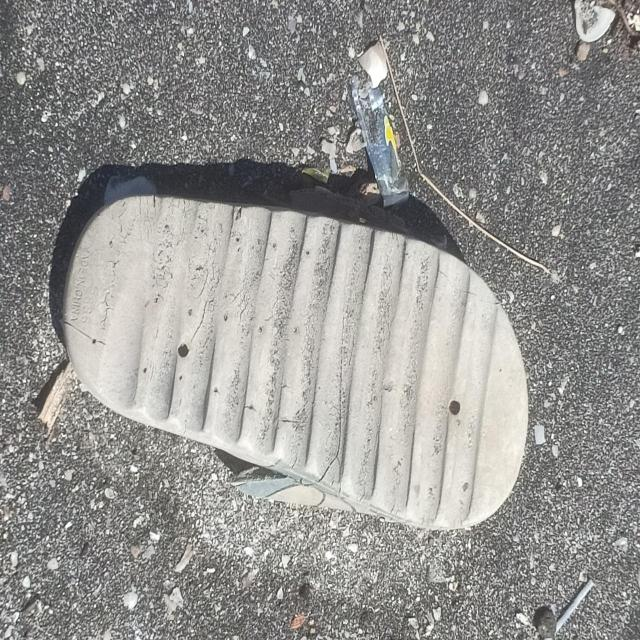rubber_waste: (63, 192, 531, 534)
